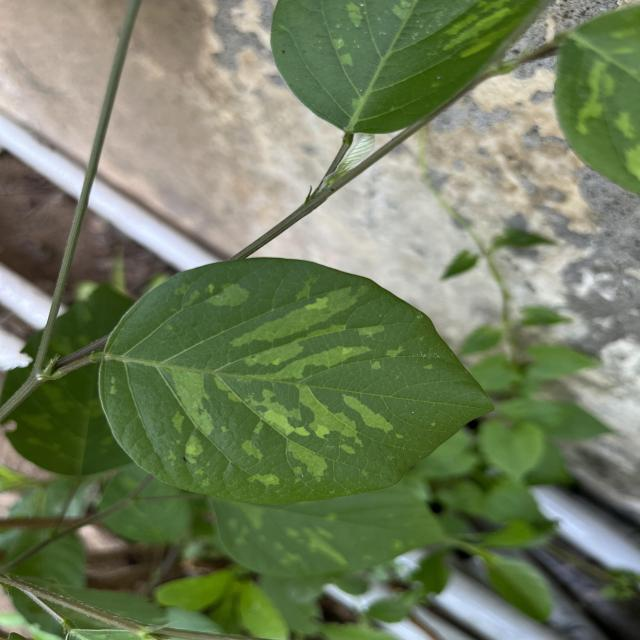Desmodium gangeticum: (96, 252, 502, 508)
